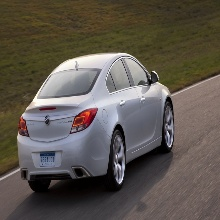no damage: (17, 52, 176, 192)
